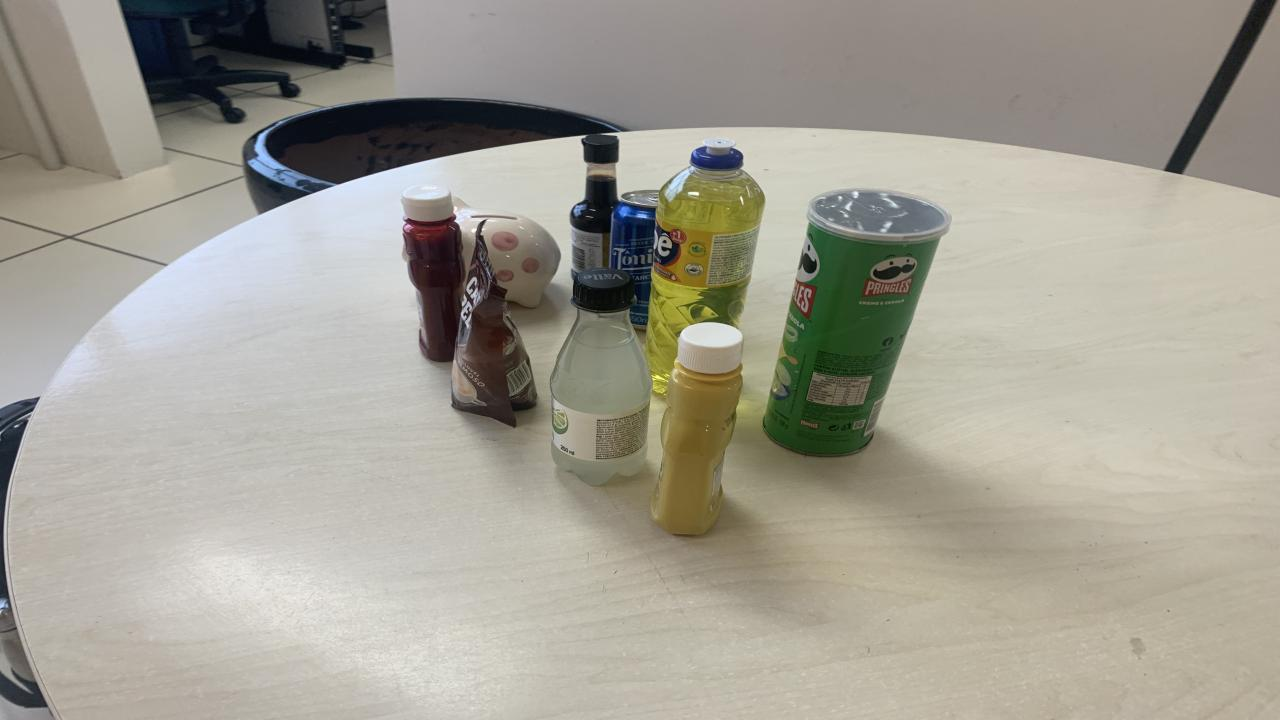Coffee-Pantry_Items: (452, 234, 538, 428)
Detergent-Cleanup_Items: (648, 137, 765, 394)
English_Sauce-Pantry_Items: (570, 135, 618, 278)
Ketchup-Pantry_Items: (402, 186, 465, 362)
Mustard-Pantry_Items: (650, 322, 742, 534)
Pig_Safe-Miscellaneous: (455, 202, 560, 308)
Pringles-Snacks: (762, 189, 950, 456)
Soda-Drinks: (550, 268, 652, 486)
Tonic-Drinks: (610, 189, 658, 330)
